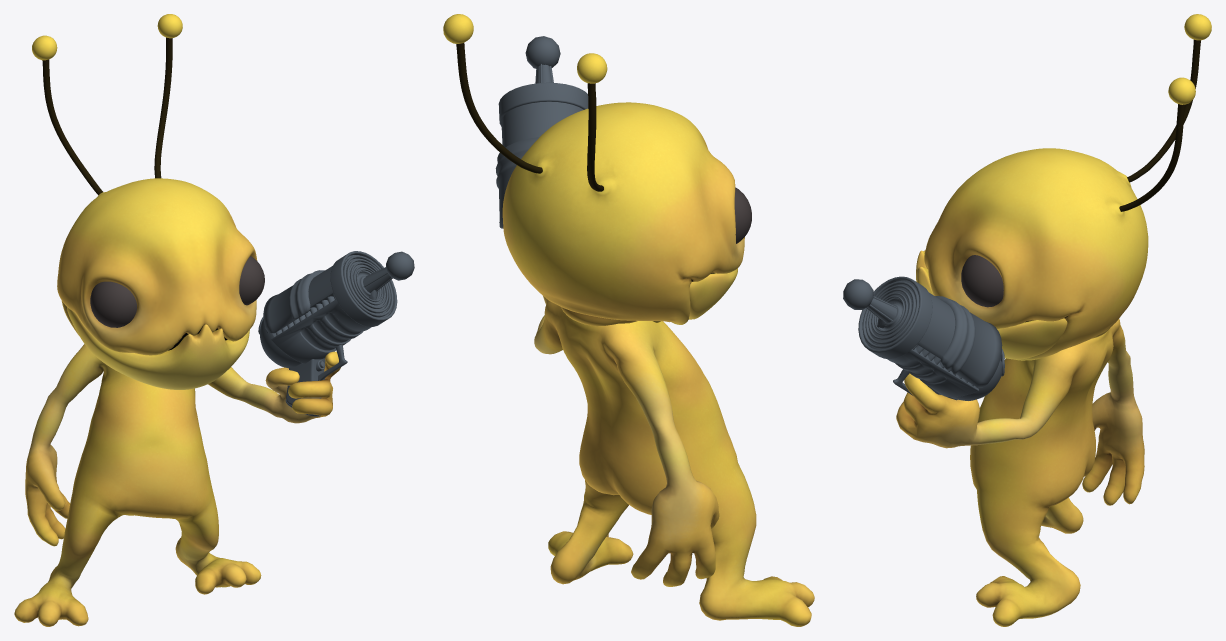
The model's file is alien.dae.
The picture shows the model from 3 angles, left to right: view 1: azimuth 30°, elevation 25°; view 2: azimuth 150°, elevation 25°; view 3: azimuth 270°, elevation 25°; orthographic projection. The views are drawn at different scales.
Parts seen in each view (by area): view 1: Untitled-1; view 2: Untitled-1; view 3: Untitled-1.
Boxes of the visible parts, x1,y1,x2,y2 form: Untitled-1: [14, 14, 414, 626]; Untitled-1: [443, 14, 814, 626]; Untitled-1: [843, 14, 1211, 626].
Bounding box in the file's own units: 1.11 × 1.03 × 1.7.
Materials: 2 (2 with a texture image).
